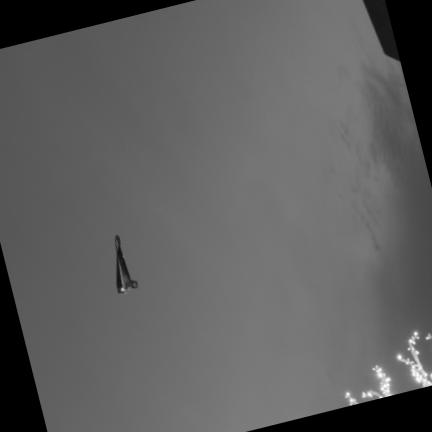Shahed: (114, 234, 137, 292)
